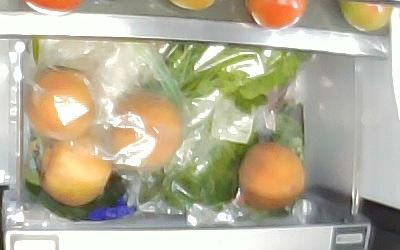peach: (40, 140, 113, 205), (239, 143, 307, 212)
peach_vinyl: (103, 92, 181, 170), (27, 71, 96, 140)
